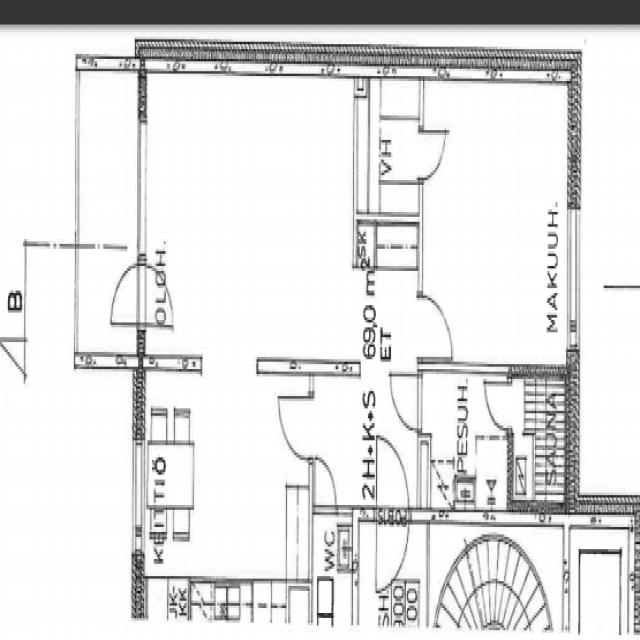door: (371, 430, 411, 514), (416, 286, 456, 366), (374, 514, 411, 596), (274, 386, 312, 464), (136, 264, 174, 333), (387, 366, 424, 436), (109, 259, 142, 332), (415, 121, 451, 183), (481, 371, 514, 438), (310, 452, 340, 516)
window: (132, 101, 152, 265), (563, 195, 584, 348), (128, 434, 148, 554)
zone: (143, 67, 358, 369), (422, 76, 568, 369), (139, 369, 307, 585), (417, 368, 512, 516), (356, 73, 422, 219), (511, 368, 569, 513), (313, 508, 357, 621), (136, 263, 174, 333)
